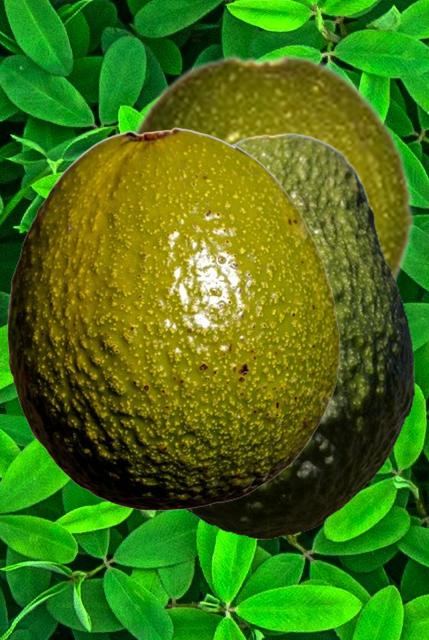avocado: (7, 127, 339, 509), (183, 132, 413, 538), (126, 53, 416, 289)
